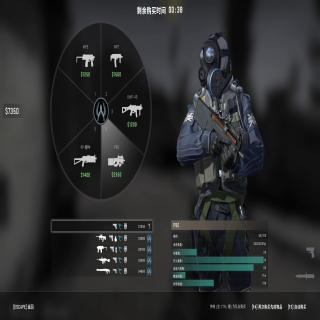CT-Body: (178, 30, 264, 218)
CT-Head: (198, 31, 230, 89)
